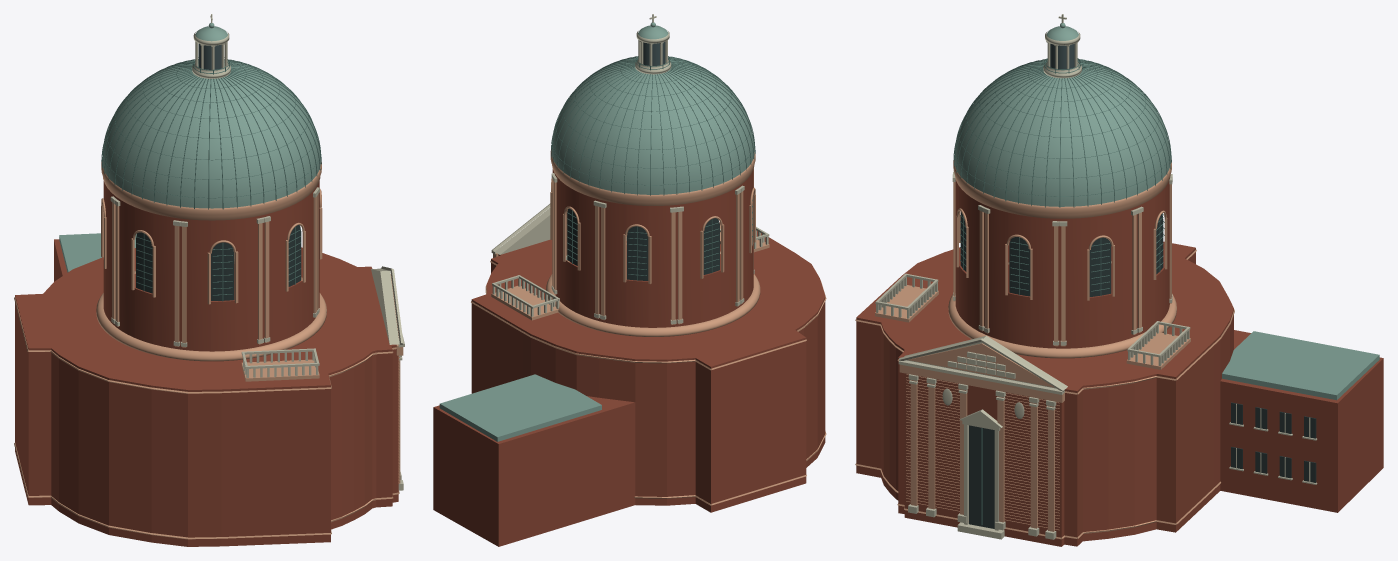
File: dome-de-la-grave-near.glb
3 renders of one model, left to right at view 1: azimuth 30°, elevation 25°; view 2: azimuth 150°, elevation 25°; view 3: azimuth 270°, elevation 25°, orthographic. The views are drawn at different scales.
Parts seen in each view (by area): view 1: dome-de-la-grave-0-brick, dome-de-la-grave-0-copper, dome-de-la-grave-0-trim, dome-de-la-grave-0-seam, dome-de-la-grave-0-stone, dome-de-la-grave-0-glass, dome-de-la-grave-0-light; view 2: dome-de-la-grave-0-brick, dome-de-la-grave-0-copper, dome-de-la-grave-0-trim, dome-de-la-grave-0-seam, dome-de-la-grave-0-stone, dome-de-la-grave-0-glass; view 3: dome-de-la-grave-0-brick, dome-de-la-grave-0-copper, dome-de-la-grave-0-trim, dome-de-la-grave-0-stone, dome-de-la-grave-0-seam, dome-de-la-grave-0-glass.
Part boxes in pixels (x1=…): dome-de-la-grave-0-brick: x1=15, y1=181, x2=398, y2=546; dome-de-la-grave-0-copper: x1=59, y1=23, x2=320, y2=272; dome-de-la-grave-0-trim: x1=14, y1=161, x2=403, y2=539; dome-de-la-grave-0-seam: x1=101, y1=57, x2=321, y2=301; dome-de-la-grave-0-stone: x1=110, y1=14, x2=404, y2=490; dome-de-la-grave-0-glass: x1=136, y1=225, x2=301, y2=300; dome-de-la-grave-0-light: x1=198, y1=43, x2=221, y2=69; dome-de-la-grave-0-brick: x1=433, y1=169, x2=825, y2=546; dome-de-la-grave-0-copper: x1=439, y1=22, x2=754, y2=441; dome-de-la-grave-0-trim: x1=471, y1=149, x2=826, y2=505; dome-de-la-grave-0-seam: x1=550, y1=56, x2=755, y2=280; dome-de-la-grave-0-stone: x1=491, y1=14, x2=769, y2=324; dome-de-la-grave-0-glass: x1=567, y1=208, x2=719, y2=280; dome-de-la-grave-0-brick: x1=856, y1=180, x2=1383, y2=546; dome-de-la-grave-0-copper: x1=954, y1=23, x2=1379, y2=400; dome-de-la-grave-0-trim: x1=855, y1=160, x2=1234, y2=539; dome-de-la-grave-0-stone: x1=875, y1=14, x2=1317, y2=539; dome-de-la-grave-0-seam: x1=953, y1=58, x2=1171, y2=524; dome-de-la-grave-0-glass: x1=960, y1=212, x2=1316, y2=528.
Size of the model in its own units: 44.89 by 56 by 59.43.
